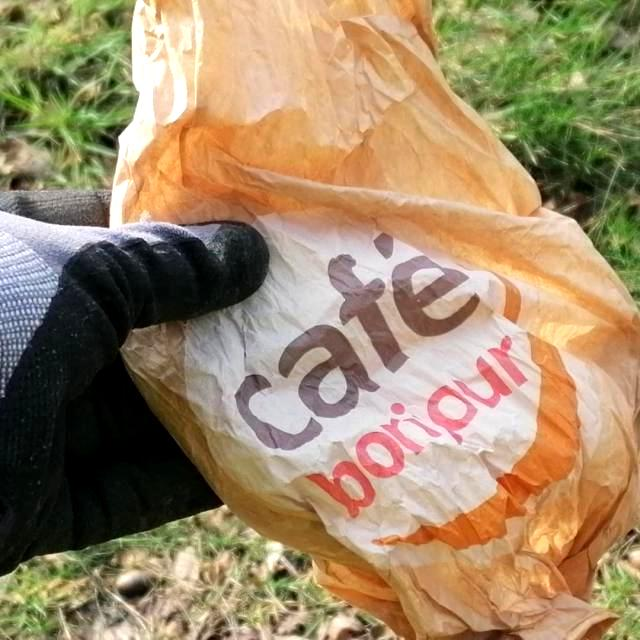Paper: (105, 0, 638, 638)
